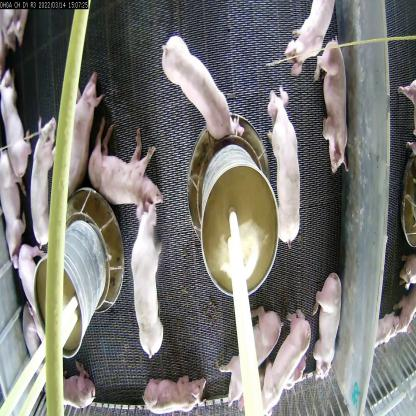Pig: (160, 24, 247, 151), (84, 112, 166, 216), (228, 287, 287, 416), (268, 93, 309, 256), (62, 76, 114, 204), (125, 196, 164, 364), (23, 112, 67, 244), (310, 266, 354, 388), (267, 301, 312, 416), (313, 37, 350, 175), (0, 150, 33, 266), (0, 73, 34, 179), (288, 0, 334, 78), (48, 359, 95, 415), (149, 368, 204, 415), (16, 238, 38, 296)
